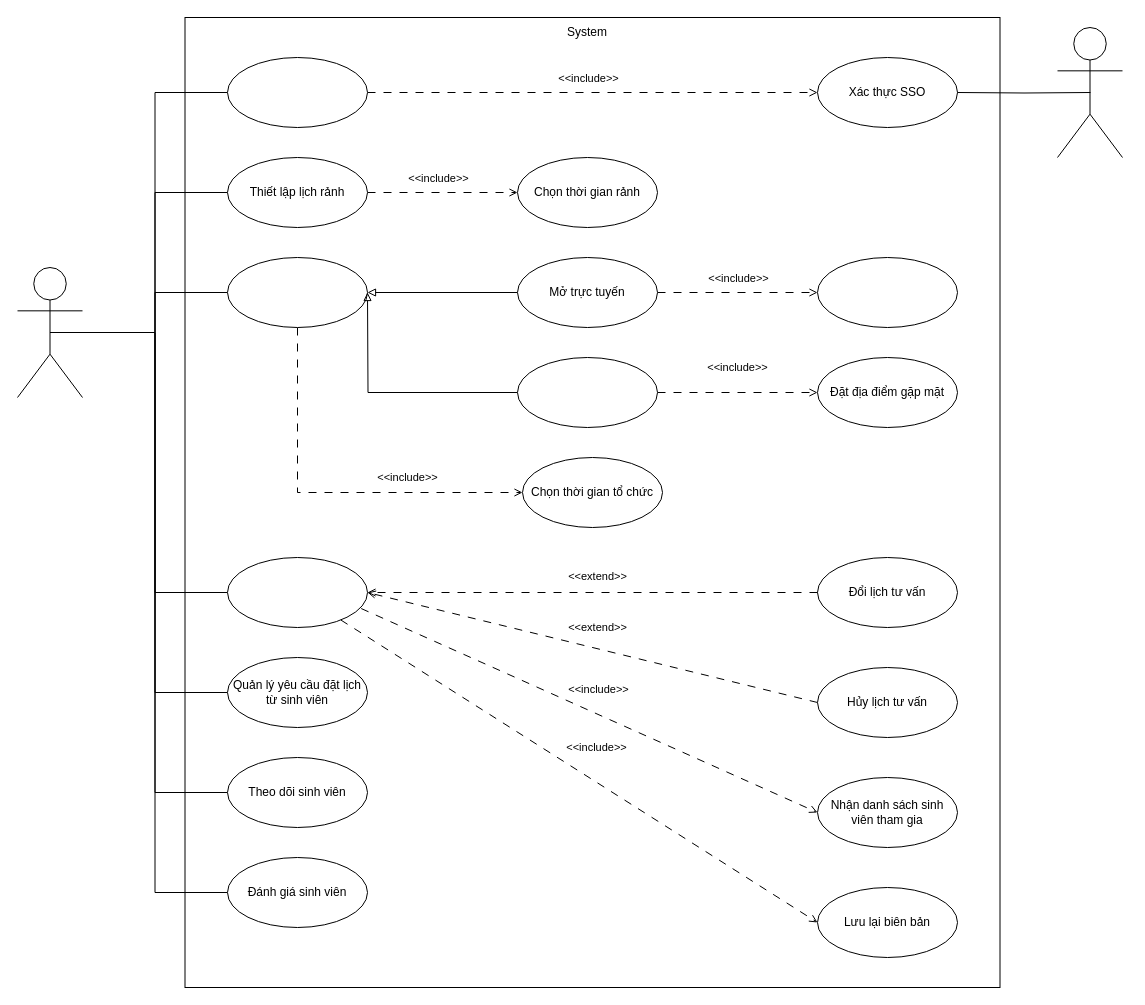
Image size: 1145x1005. Some labels were removed from this diagram. Each missing label, with the box of its shape:
HCMUT_SSO: (1056, 26, 1122, 158)
Mở buổi tư vấn: (226, 256, 368, 328)
Mở trực tiếp: (516, 356, 658, 428)
Quản lý buổi tư vấn: (226, 556, 368, 628)
Thiết lập link gặp mặt: (816, 256, 958, 328)
Tutor: (16, 266, 82, 398)
Đăng nhập hệ thống: (226, 56, 368, 128)
